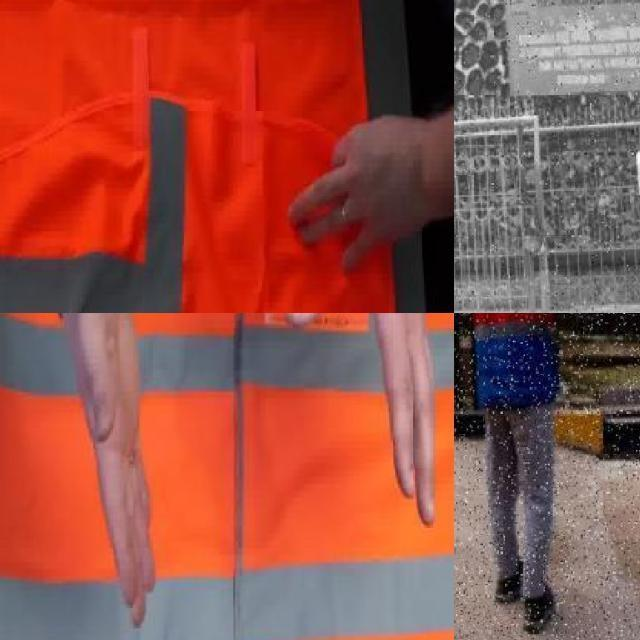apron: (630, 138, 640, 207)
